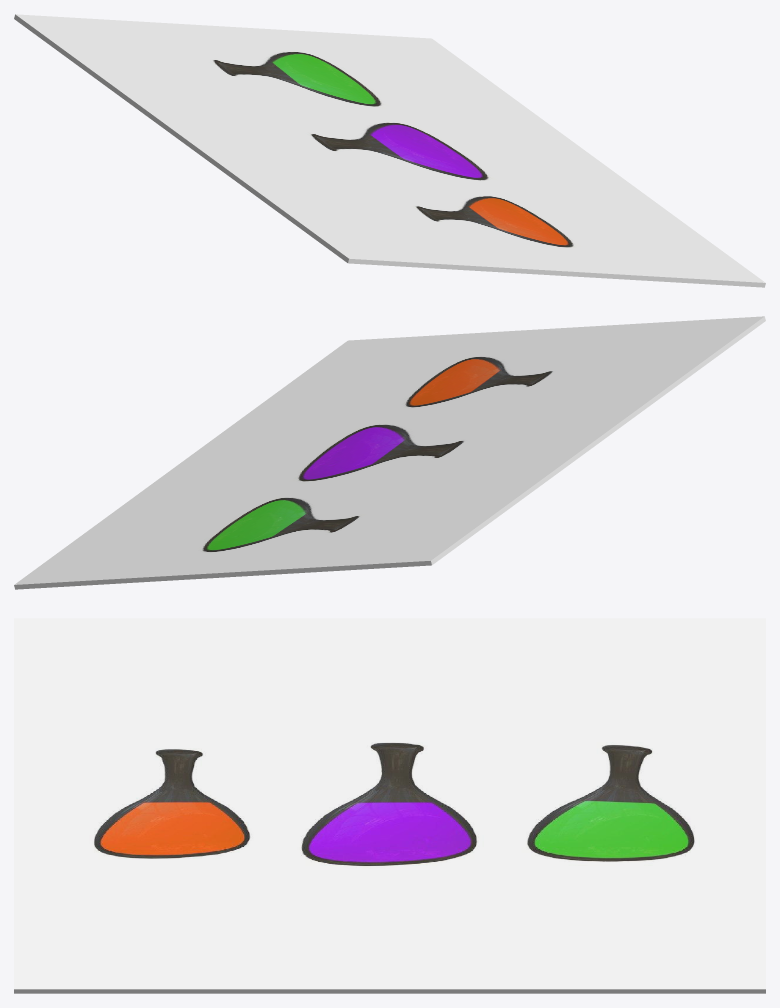
The model's file is fogliocolori.fbx.
3 views of the same model, one above another, from view 1: azimuth 30°, elevation 25°; view 2: azimuth 150°, elevation 25°; view 3: azimuth 270°, elevation 25° (orthographic). The views are drawn at different scales.
Visible parts, largest first — view 1: photo_2024-07-03_13-04-31; view 2: photo_2024-07-03_13-04-31; view 3: photo_2024-07-03_13-04-31.
Part boxes in pixels (x1=…): photo_2024-07-03_13-04-31: x1=14, y1=14, x2=765, y2=287; photo_2024-07-03_13-04-31: x1=14, y1=316, x2=765, y2=589; photo_2024-07-03_13-04-31: x1=14, y1=618, x2=765, y2=993.
Size of the model in its own units: 23.77 by 7.08 by 32.89.
1 material, 1 textured.
